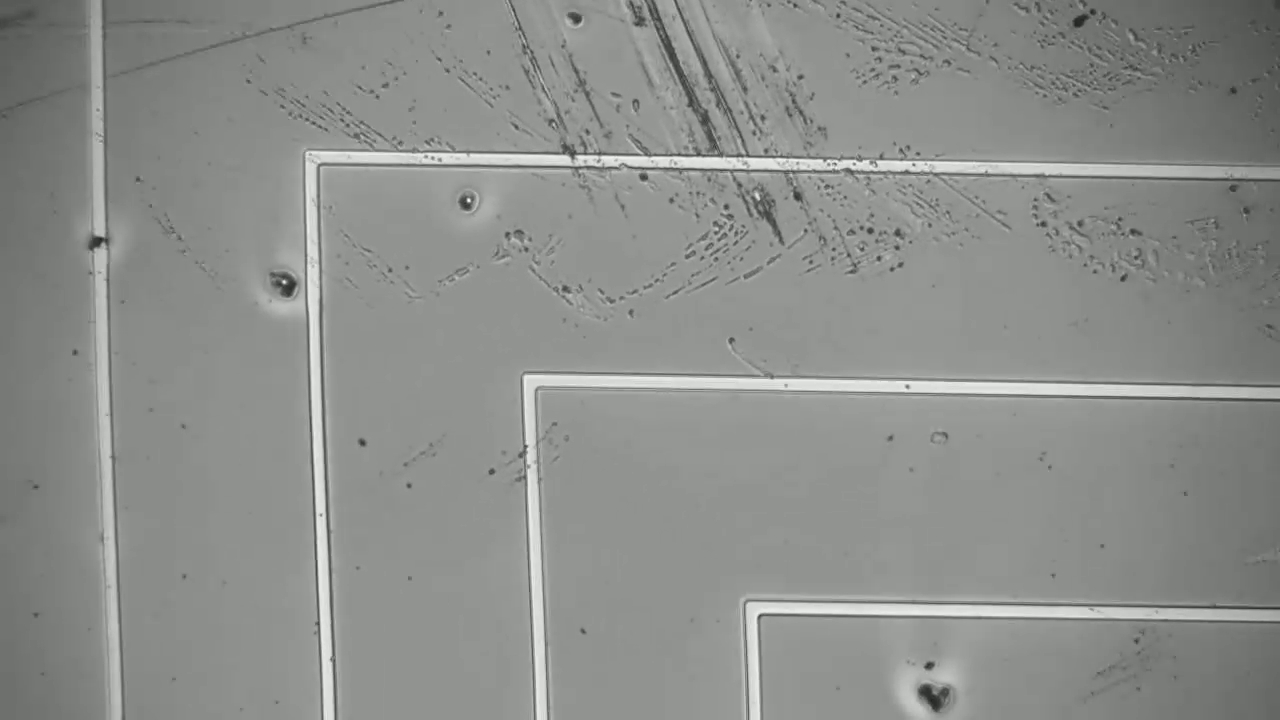scratch: (4, 1, 393, 122), (651, 5, 774, 215), (502, 2, 584, 169)
